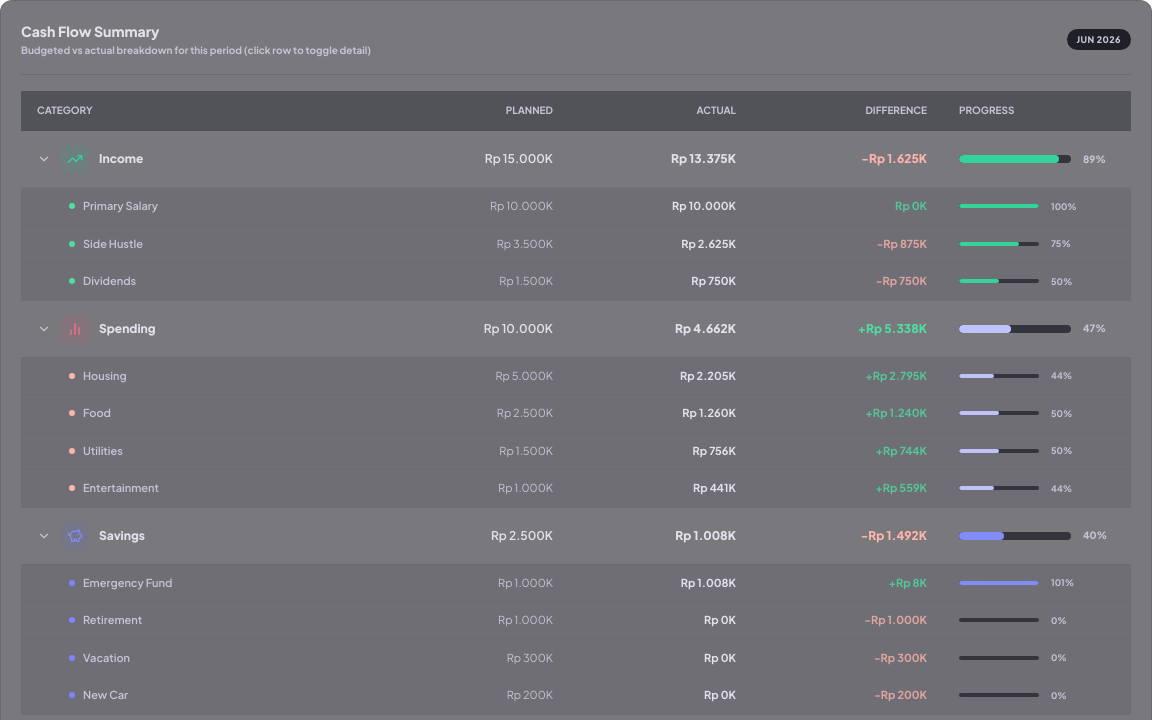
Test case: SummaryTable.vue › renders subcategories by default and collapses them on click
# Collapse Income
Click the row "Income Rp 15.000K Rp 13.375K -Rp 1.625K 89%" at (576, 159), box [21, 130, 1131, 188]
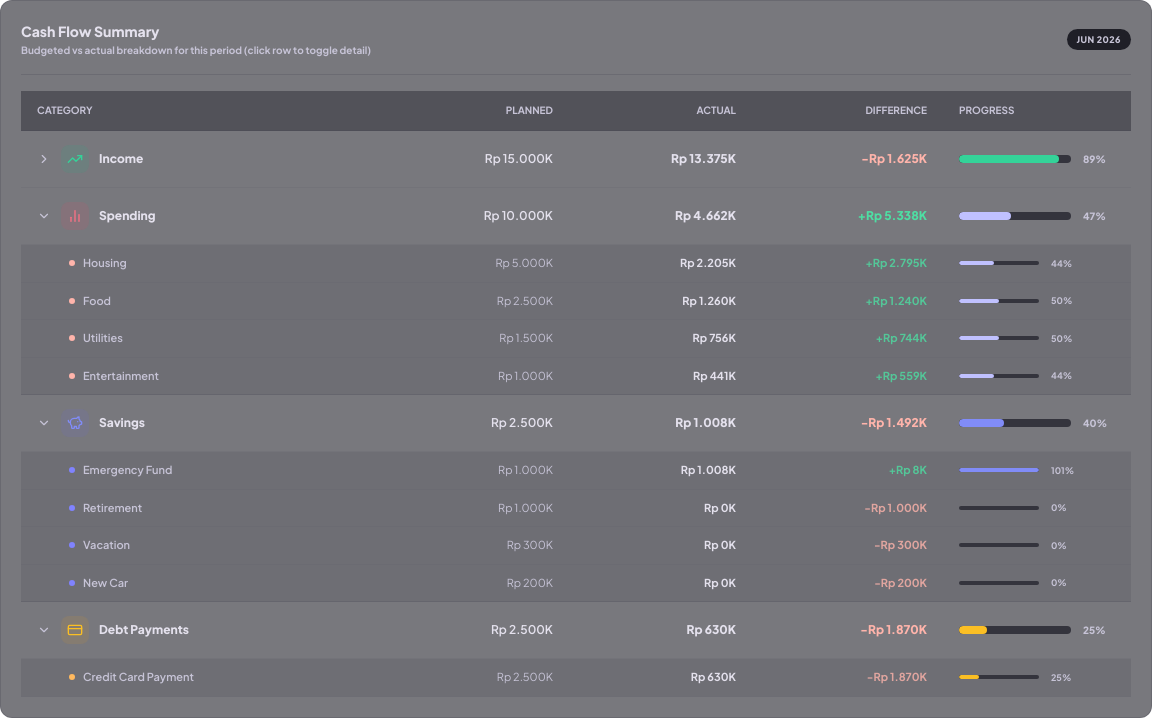
Check: the text "Housing" is shown, box [69, 256, 127, 269]
Check: the text "Primary Salary" is gone
# Expand Income again
Click the row "Income Rp 15.000K Rp 13.375K -Rp 1.625K 89%" at (576, 159), box [21, 130, 1131, 188]
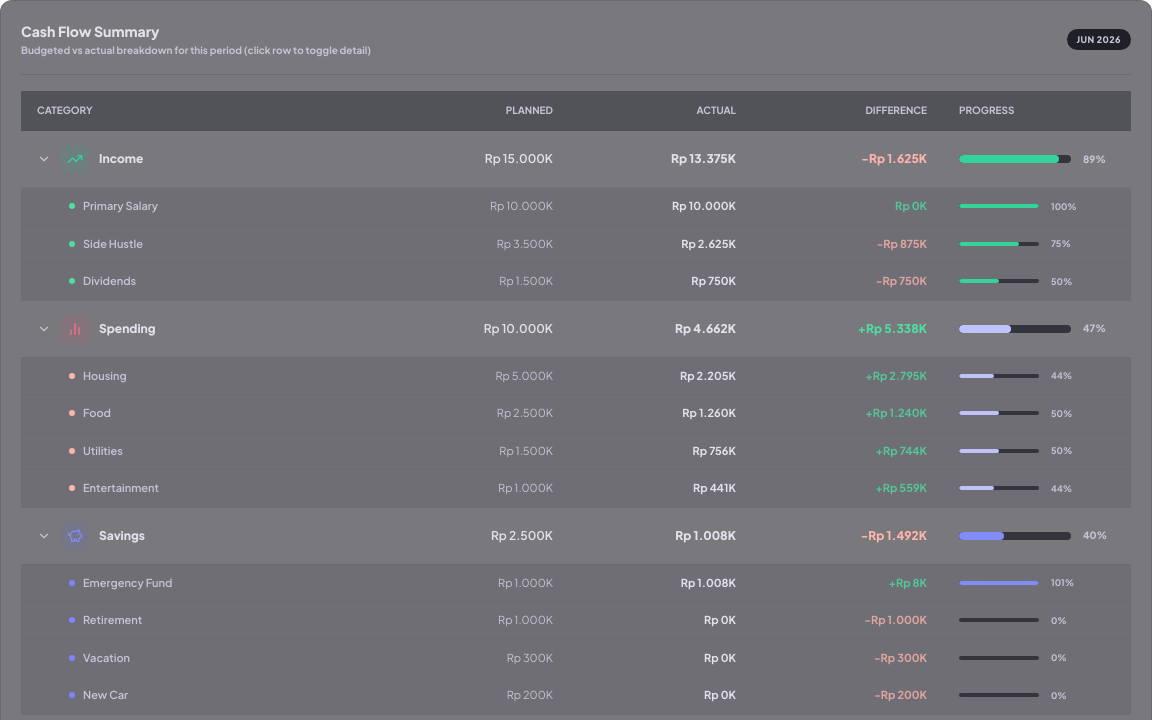
Check: the text "Primary Salary" is shown, box [69, 199, 158, 212]
